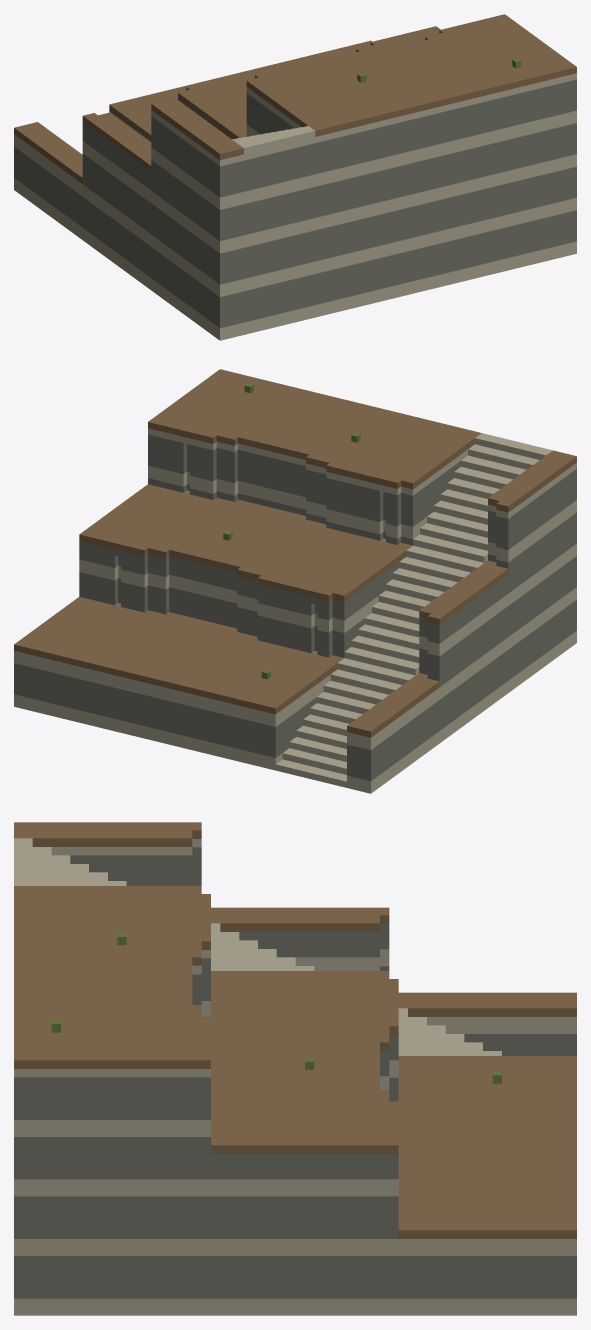
Rendered from visual-far.glb.
3 views of the same model, one above another, from view 1: azimuth 30°, elevation 25°; view 2: azimuth 150°, elevation 25°; view 3: azimuth 270°, elevation 25° (orthographic). The views are drawn at different scales.
Visible parts, largest first — view 1: 既有建筑群肩坡过渡组件; view 2: 既有建筑群肩坡过渡组件; view 3: 既有建筑群肩坡过渡组件.
Part boxes in pixels (x1,y1,x2,y2): 既有建筑群肩坡过渡组件: [14, 14, 576, 340]; 既有建筑群肩坡过渡组件: [14, 369, 576, 793]; 既有建筑群肩坡过渡组件: [14, 822, 576, 1315].
Size of the model in its own units: 12 by 6.2 by 12.
4 materials, 4 textured.
